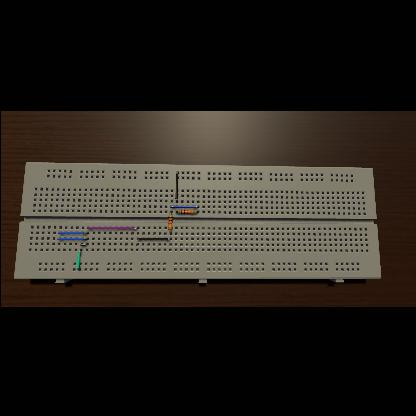breadboard: (13, 160, 380, 282)
resistor: (166, 214, 172, 228), (178, 209, 194, 213)
wire: (76, 249, 82, 270), (174, 171, 178, 201), (86, 226, 138, 228), (136, 237, 171, 239), (56, 237, 88, 239), (57, 231, 88, 233), (170, 205, 198, 207), (79, 242, 87, 244), (169, 210, 171, 214), (176, 210, 178, 212), (194, 210, 196, 212), (170, 230, 170, 233)
